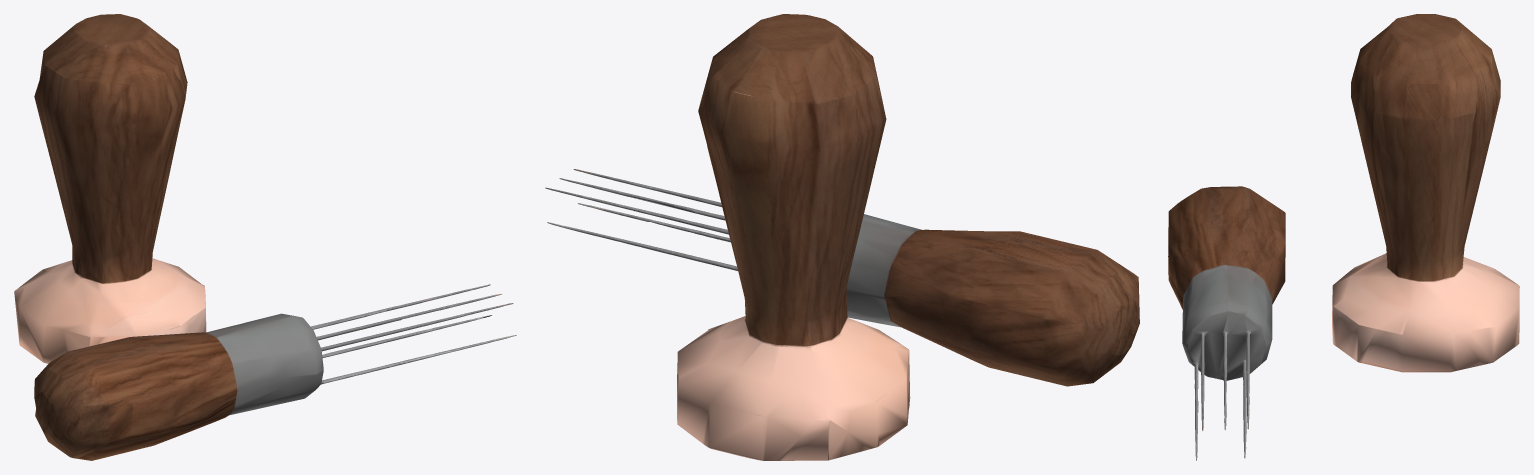
The model's file is puck_prep.glb.
3 renders of one model, left to right at view 1: azimuth 30°, elevation 25°; view 2: azimuth 150°, elevation 25°; view 3: azimuth 270°, elevation 25°, orthographic. The views are drawn at different scales.
Parts seen in each view (by area): view 1: Mesh1.001; view 2: Mesh1.001; view 3: Mesh1.001.
Boxes of the visible parts, <box> form: Mesh1.001: <box>14,14,516,460</box>; Mesh1.001: <box>545,14,1139,460</box>; Mesh1.001: <box>1168,14,1519,460</box>.
Bounding box in the file's own units: 1.91 × 1.27 × 1.28.
1 material, 1 textured.
